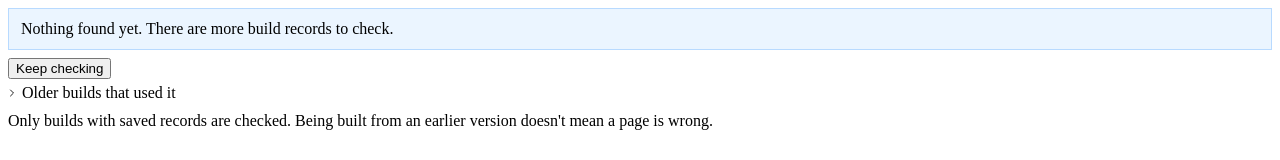
Test: continues a zero-result page before saying no page is behind
Expected: the text "Nothing found yet. There are more build records to check." is shown, [21,20,394,37]
Expected: the text "No wiki page is behind" is not shown
Click the button "Keep checking". click: (60, 68)
box: [8,58,111,79]
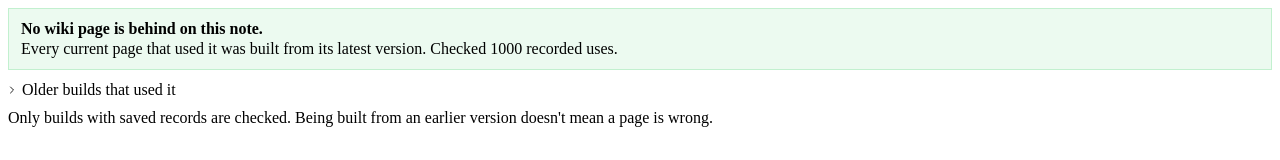
Expected: the text "No wiki page is behind on this note." is shown, [21,20,263,37]
Expected: the text "Checked 1000 recorded uses." is shown, [21,40,618,57]
